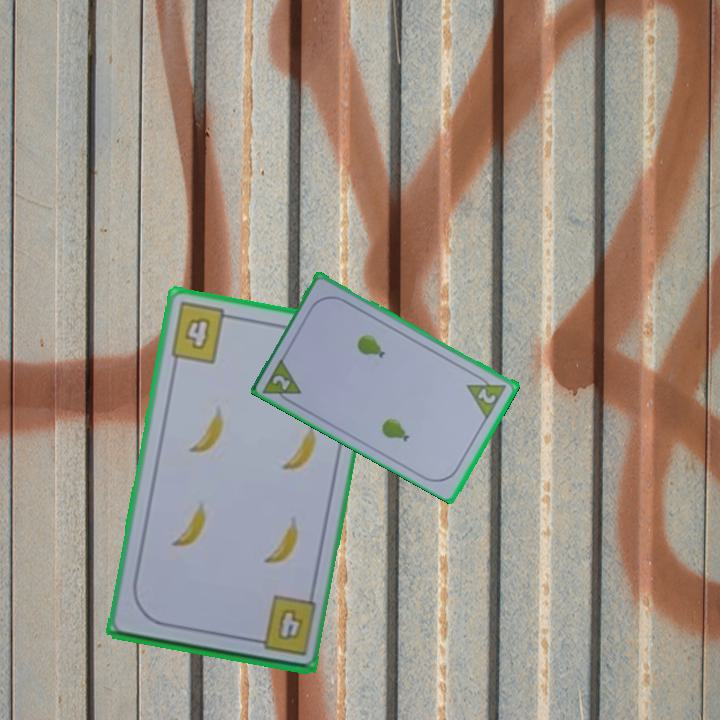2p: (260, 354, 305, 409), (463, 369, 510, 421)
4b: (166, 298, 238, 367), (246, 592, 319, 659)
